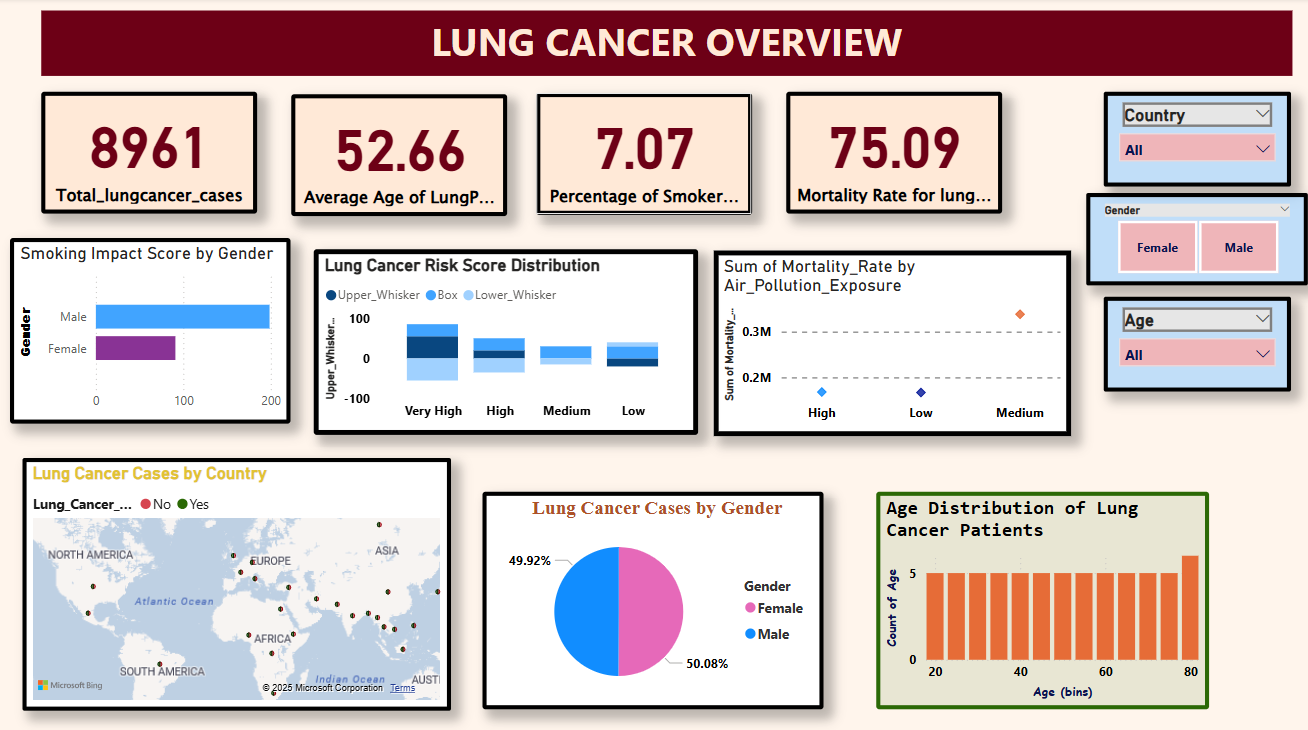

The page's visual inventory and layout, read from the dashboard file:
{"tool":"powerbi","page":{"name":"Lung Cancer Overview","canvas":[1280,720],"ordinal":0},"visuals":[{"type":"map","title":"Lung Cancer Cases by Country","fields":{"Category":["lung_cancer_Dataset.Country"],"Series":["lung_cancer_Dataset.Lung_Cancer_Diagnosis"]},"box":[21.7,449.4,419.3,247],"z":0},{"type":"pieChart","fields":{"Category":["lung_cancer_Dataset.Gender"],"Y":["CountNonNull(lung_cancer_Dataset.Lung_Cancer_Diagnosis)"]},"box":[472,483,333.8,212.8],"z":1000},{"type":"clusteredColumnChart","title":"Age Distribution of Lung Cancer Patients","fields":{"Category":["lung_cancer_Dataset.Age (bins)"],"Y":["Count(lung_cancer_Dataset.Age)"]},"box":[857.2,483,325.3,212.8],"z":2000},{"type":"barChart","fields":{"Category":["lung_cancer_Dataset.Gender"],"Y":["lung_cancer_Dataset.Smoking Impact Score"]},"box":[9.6,234.9,274.7,181.9],"z":3000},{"type":"textbox","box":[41,12,1224.1,63.9],"z":4000},{"type":"card","fields":{"Values":["lung_cancer_Dataset.Mortality Rate for lungpatient"]},"box":[768.7,91.6,210.8,119.3],"z":5000},{"type":"slicer","fields":{"Values":["lung_cancer_Dataset.Country"]},"box":[1079.5,91.6,183.1,92.8],"z":6000},{"type":"scatterChart","fields":{"Y":["Sum(lung_cancer_Dataset.Mortality_Rate)"],"X":["lung_cancer_Dataset.Air_Pollution_Exposure"]},"box":[698.8,247,349.4,181.9],"z":7000},{"type":"slicer","fields":{"Values":["lung_cancer_Dataset.Gender"]},"box":[1062.7,190.4,216.9,90.4],"z":8000},{"type":"card","fields":{"Values":["lung_cancer_Dataset.Percentage of Smokers with Lung Cancer"]},"box":[524.1,92.8,210.8,119.3],"z":9000},{"type":"card","fields":{"Values":["lung_cancer_Dataset.Average Age of LungPatients"]},"box":[284.3,94,210.8,119.3],"z":10000},{"type":"card","fields":{"Values":["lung_cancer_Dataset.Total_lungcancer_cases"]},"box":[41,91.6,210.8,119.3],"z":11000},{"type":"columnChart","title":"\t\t\tLung Cancer Risk Score Distribution","fields":{"Category":["lung_cancer_Dataset.Risk_Category"],"Y":["lung_cancer_Dataset.Upper_Whisker","lung_cancer_Dataset.Box","lung_cancer_Dataset.Lower_Whisker"]},"box":[307.2,245.8,375.9,181.9],"z":12000},{"type":"slicer","fields":{"Values":["lung_cancer_Dataset.Age"]},"box":[1079.5,292.8,183.1,92.8],"z":13000}]}

Visuals, with their boxes in screenshot pixels (x1, y1, x2, y2), scaled from the page's 1280x720 canvas onto the 1308x730 screenshot:
"Lung Cancer Cases by Country" map: {"x1": 22, "y1": 456, "x2": 451, "y2": 706}
pieChart - lung_cancer_Dataset.Gender x CountNonNull(lung_cancer_Dataset.Lung_Cancer_Diagnosis): {"x1": 482, "y1": 490, "x2": 823, "y2": 705}
"Age Distribution of Lung Cancer Patients" clusteredColumnChart: {"x1": 876, "y1": 490, "x2": 1208, "y2": 705}
barChart - lung_cancer_Dataset.Gender x lung_cancer_Dataset.Smoking Impact Score: {"x1": 10, "y1": 238, "x2": 291, "y2": 423}
textbox: {"x1": 42, "y1": 12, "x2": 1293, "y2": 77}
card - lung_cancer_Dataset.Mortality Rate for lungpatient: {"x1": 786, "y1": 93, "x2": 1001, "y2": 214}
slicer - lung_cancer_Dataset.Country: {"x1": 1103, "y1": 93, "x2": 1290, "y2": 187}
scatterChart - Sum(lung_cancer_Dataset.Mortality_Rate) x lung_cancer_Dataset.Air_Pollution_Exposure: {"x1": 714, "y1": 250, "x2": 1071, "y2": 435}
slicer - lung_cancer_Dataset.Gender: {"x1": 1086, "y1": 193, "x2": 1307, "y2": 285}
card - lung_cancer_Dataset.Percentage of Smokers with Lung Cancer: {"x1": 536, "y1": 94, "x2": 751, "y2": 215}
card - lung_cancer_Dataset.Average Age of LungPatients: {"x1": 291, "y1": 95, "x2": 506, "y2": 216}
card - lung_cancer_Dataset.Total_lungcancer_cases: {"x1": 42, "y1": 93, "x2": 257, "y2": 214}
"			Lung Cancer Risk Score Distribution" columnChart: {"x1": 314, "y1": 249, "x2": 698, "y2": 434}
slicer - lung_cancer_Dataset.Age: {"x1": 1103, "y1": 297, "x2": 1290, "y2": 391}
